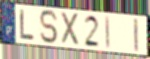2: (83, 14, 101, 48)
I: (132, 18, 140, 53), (104, 15, 111, 51)
L: (19, 8, 36, 41)
S: (38, 9, 60, 46)
X: (60, 11, 81, 47)
